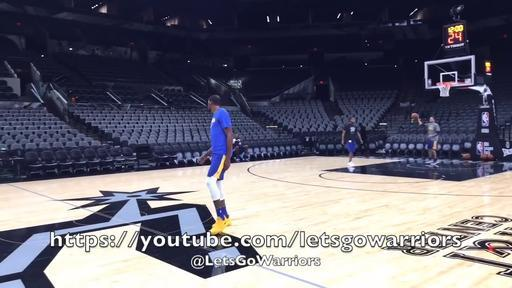ball: (410, 112, 420, 120), (480, 153, 488, 161)
human: (195, 95, 233, 235), (341, 117, 363, 172), (416, 116, 440, 164)
rim: (437, 82, 452, 97)
